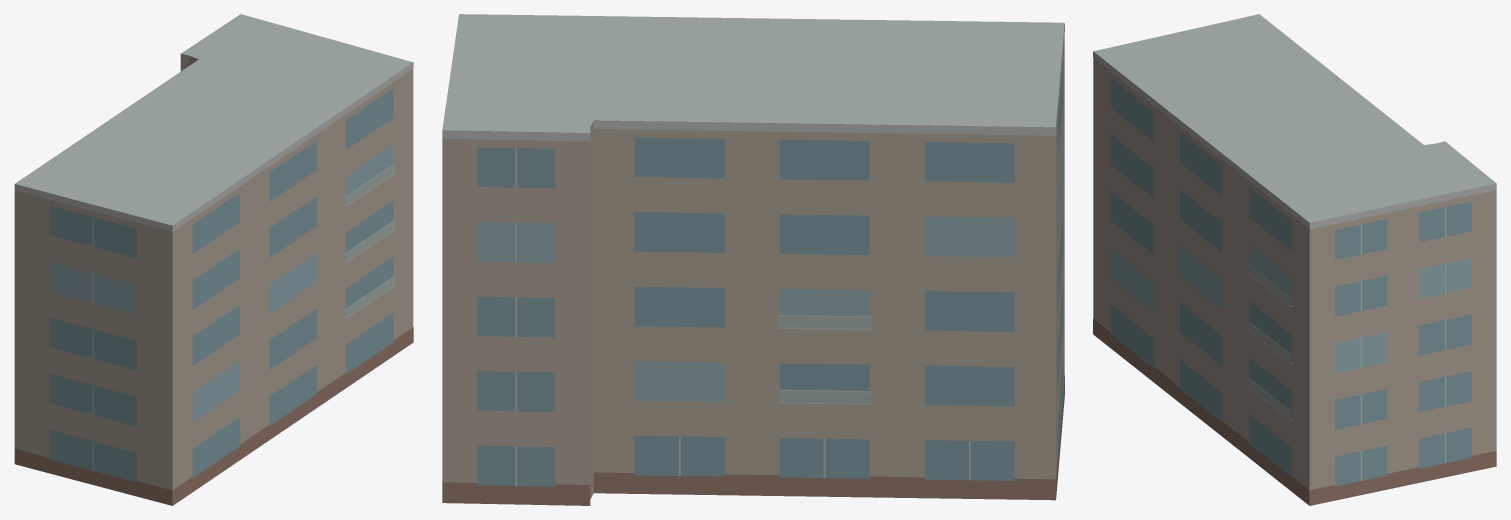
File: survey-upis-32886197.glb
The picture shows the model from 3 angles, left to right: view 1: azimuth 30°, elevation 25°; view 2: azimuth 150°, elevation 25°; view 3: azimuth 270°, elevation 25°; orthographic projection. The views are drawn at different scales.
Parts seen in each view (by area): view 1: survey-upis-32886197.tmp; view 2: survey-upis-32886197.tmp; view 3: survey-upis-32886197.tmp.
Boxes of the visible parts, box(x1,y1,x2,y2) form: survey-upis-32886197.tmp: box(14, 14, 413, 505); survey-upis-32886197.tmp: box(442, 14, 1064, 505); survey-upis-32886197.tmp: box(1093, 14, 1496, 505).
Size of the model in its own units: 16.94 by 10.7 by 13.83.
